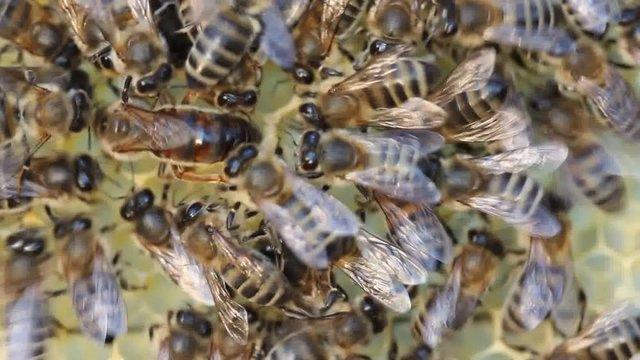Queen-Bee: (86, 88, 280, 184)
worker-bee: (113, 199, 280, 324), (45, 205, 127, 343), (296, 129, 456, 199), (59, 0, 174, 96), (413, 228, 505, 347), (297, 49, 432, 128), (0, 227, 50, 359)
